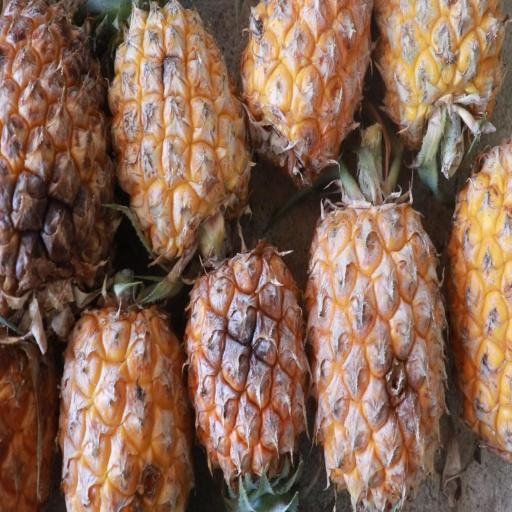Pineapple - v8 v1: (300, 160, 448, 511), (0, 0, 118, 338), (102, 2, 254, 261), (55, 267, 196, 512), (182, 236, 312, 501), (234, 0, 370, 191), (375, 0, 506, 155)
